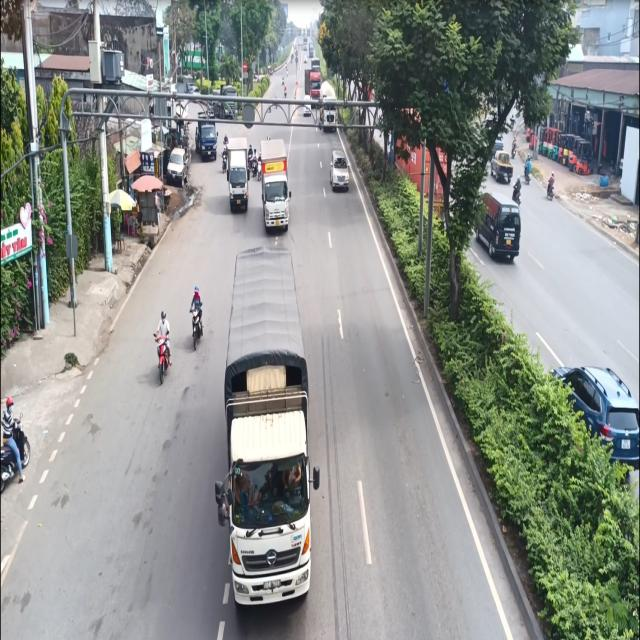car: (327, 148, 355, 197)
motor: (0, 387, 36, 498), (185, 278, 208, 362), (150, 301, 174, 381)
truck: (225, 243, 321, 616), (260, 138, 296, 231), (226, 137, 252, 214)
